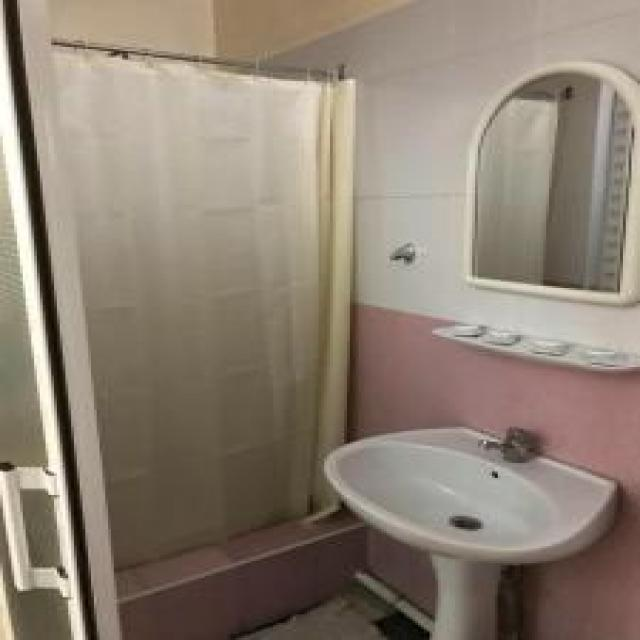tap: (481, 416, 545, 476)
wash basin: (312, 399, 613, 622)
